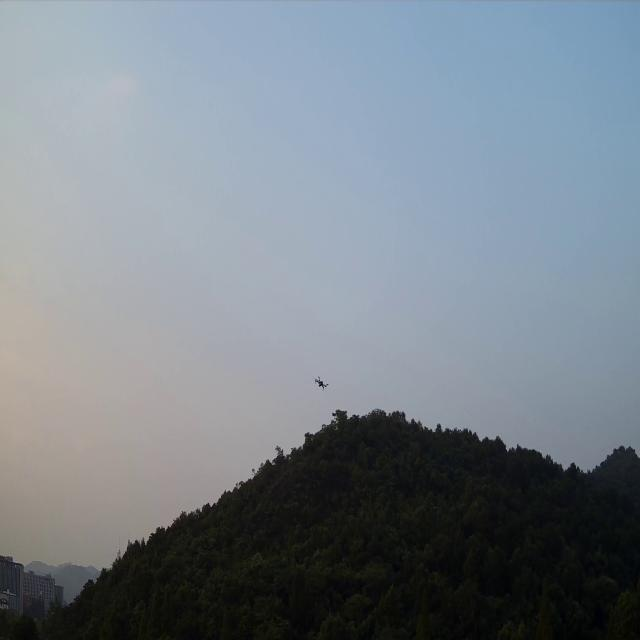UAV: (313, 374, 329, 392)
